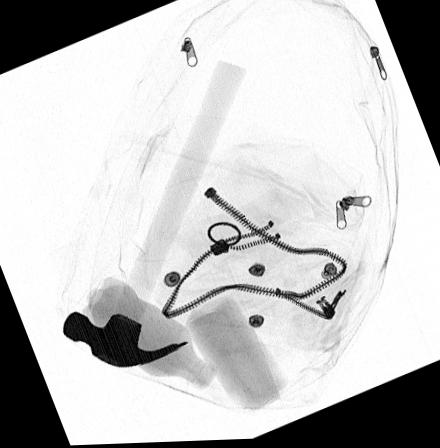Hammer: (62, 60, 246, 368)
